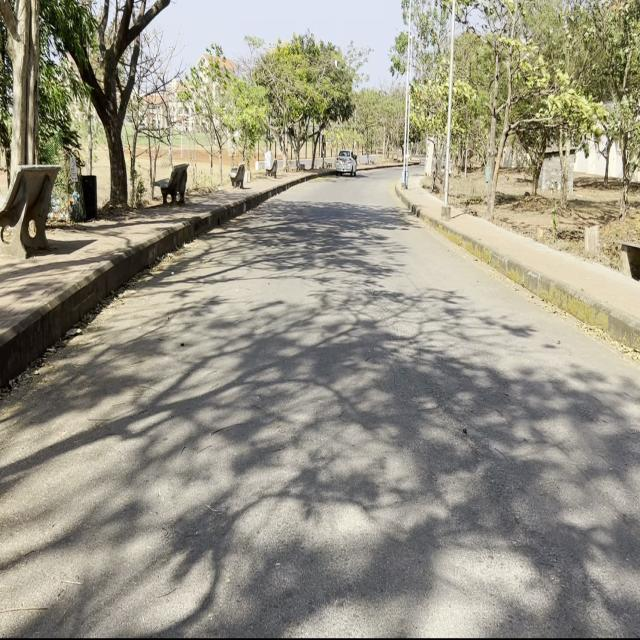Object: (332, 148, 359, 184)
Road: (2, 172, 636, 630)
